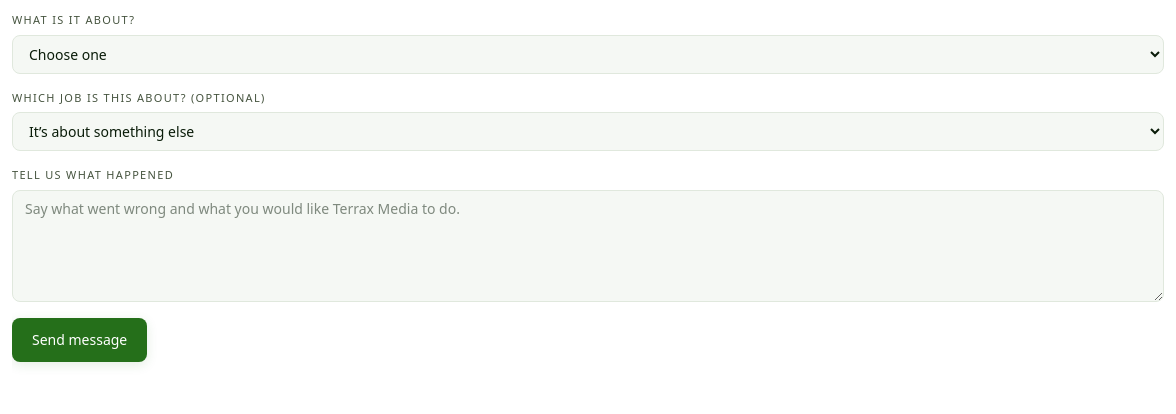
it: complaint forms › raises with a category, optional record and message, and shows errors
Select "Pay or payouts" in the dropdown labelled "What is it about?" at (588, 54), box top-left (12, 34), bottom-right (1164, 74)
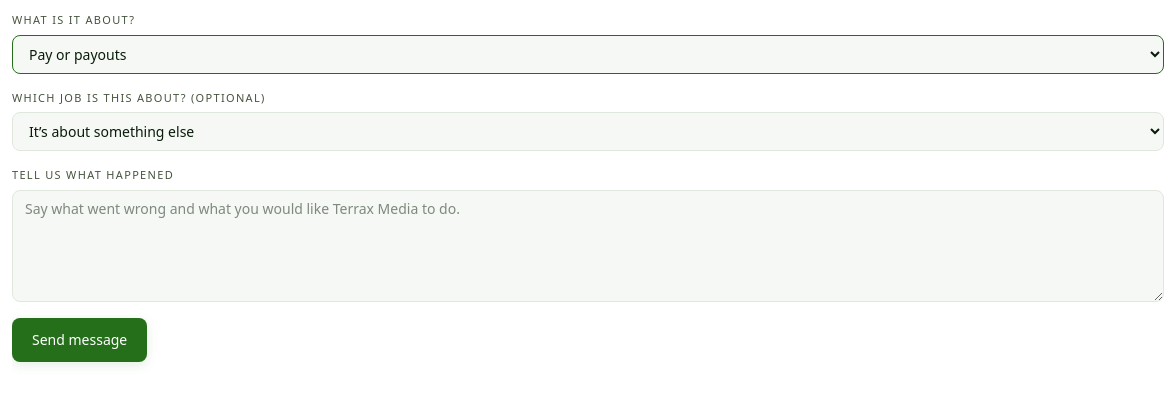
Select "Wuse lunch rush" in the dropdown labelled "Which job is this about? (optional)" at (588, 132), box top-left (12, 112), bottom-right (1164, 151)
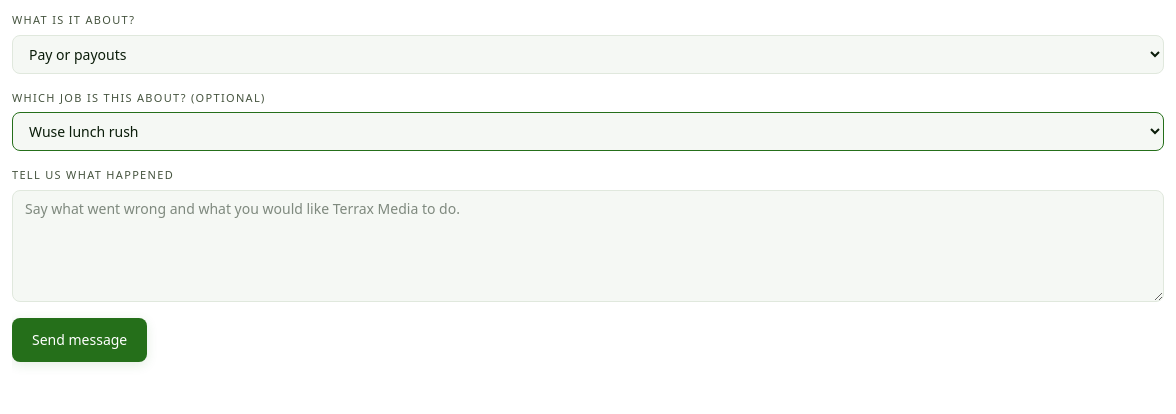
Type "Paid short" into the text box labelled "Tell us what happened" at (588, 246), box top-left (12, 190), bottom-right (1164, 302)
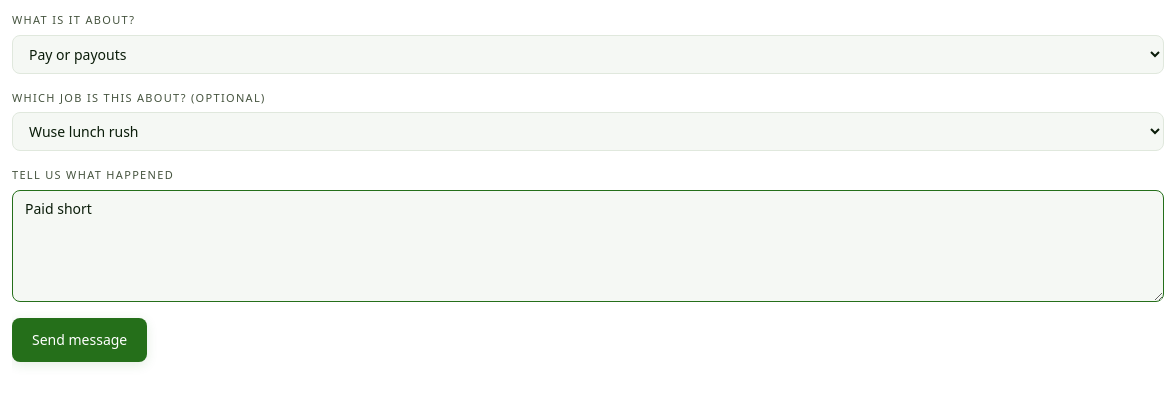
Click the button "Send message" at (80, 340), box top-left (12, 318), bottom-right (147, 362)
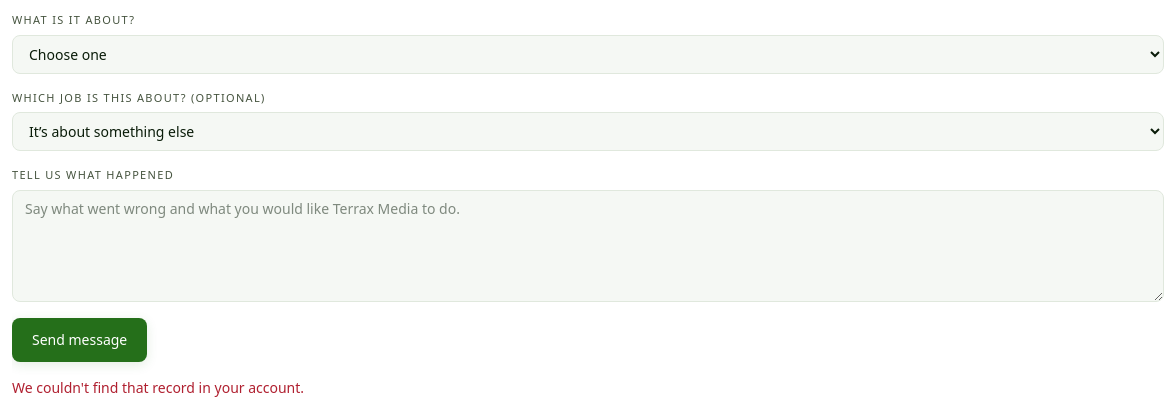
Expected: the message shows "couldn't find that record", top-left (12, 378), bottom-right (304, 396)
